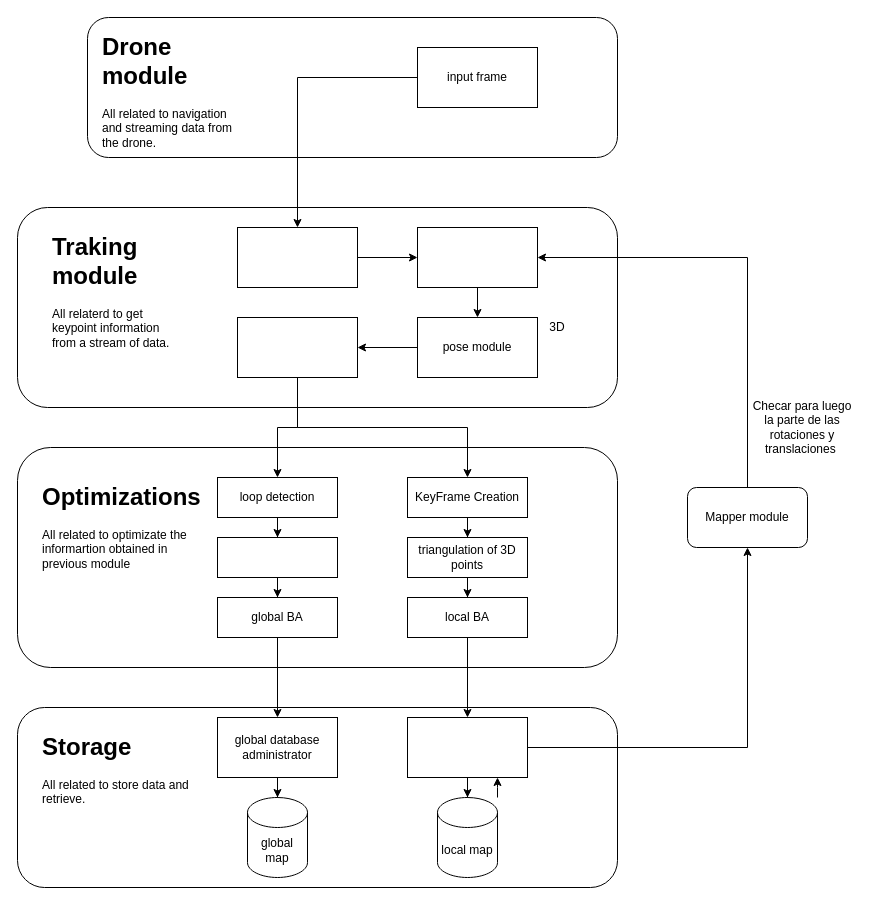
Some shapes in this 875 by 905 pixel diagram are drawn without their labels. The centre of each missing label's shape, as x and y in pixels:
KeyFrame decision module: the point at 297,347
keypoint detection: the point at 297,257
local database administrator: the point at 467,747
matching with local map: the point at 477,257
pose-graph optimization: the point at 277,557
